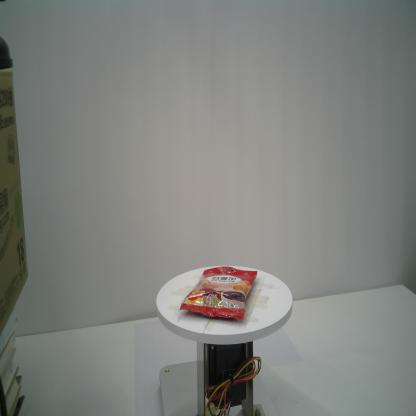Instant Drink: (179, 266, 258, 321)
